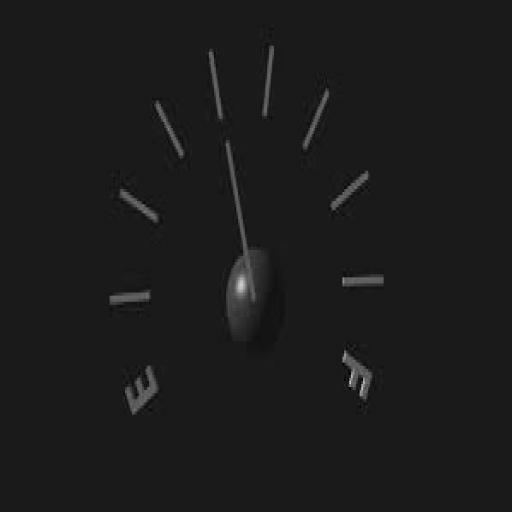empty: (122, 356, 166, 422)
full: (335, 339, 377, 410)
guage_area: (82, 25, 436, 466)
needle_center: (220, 238, 292, 366)
needle_tip: (218, 136, 241, 171)
